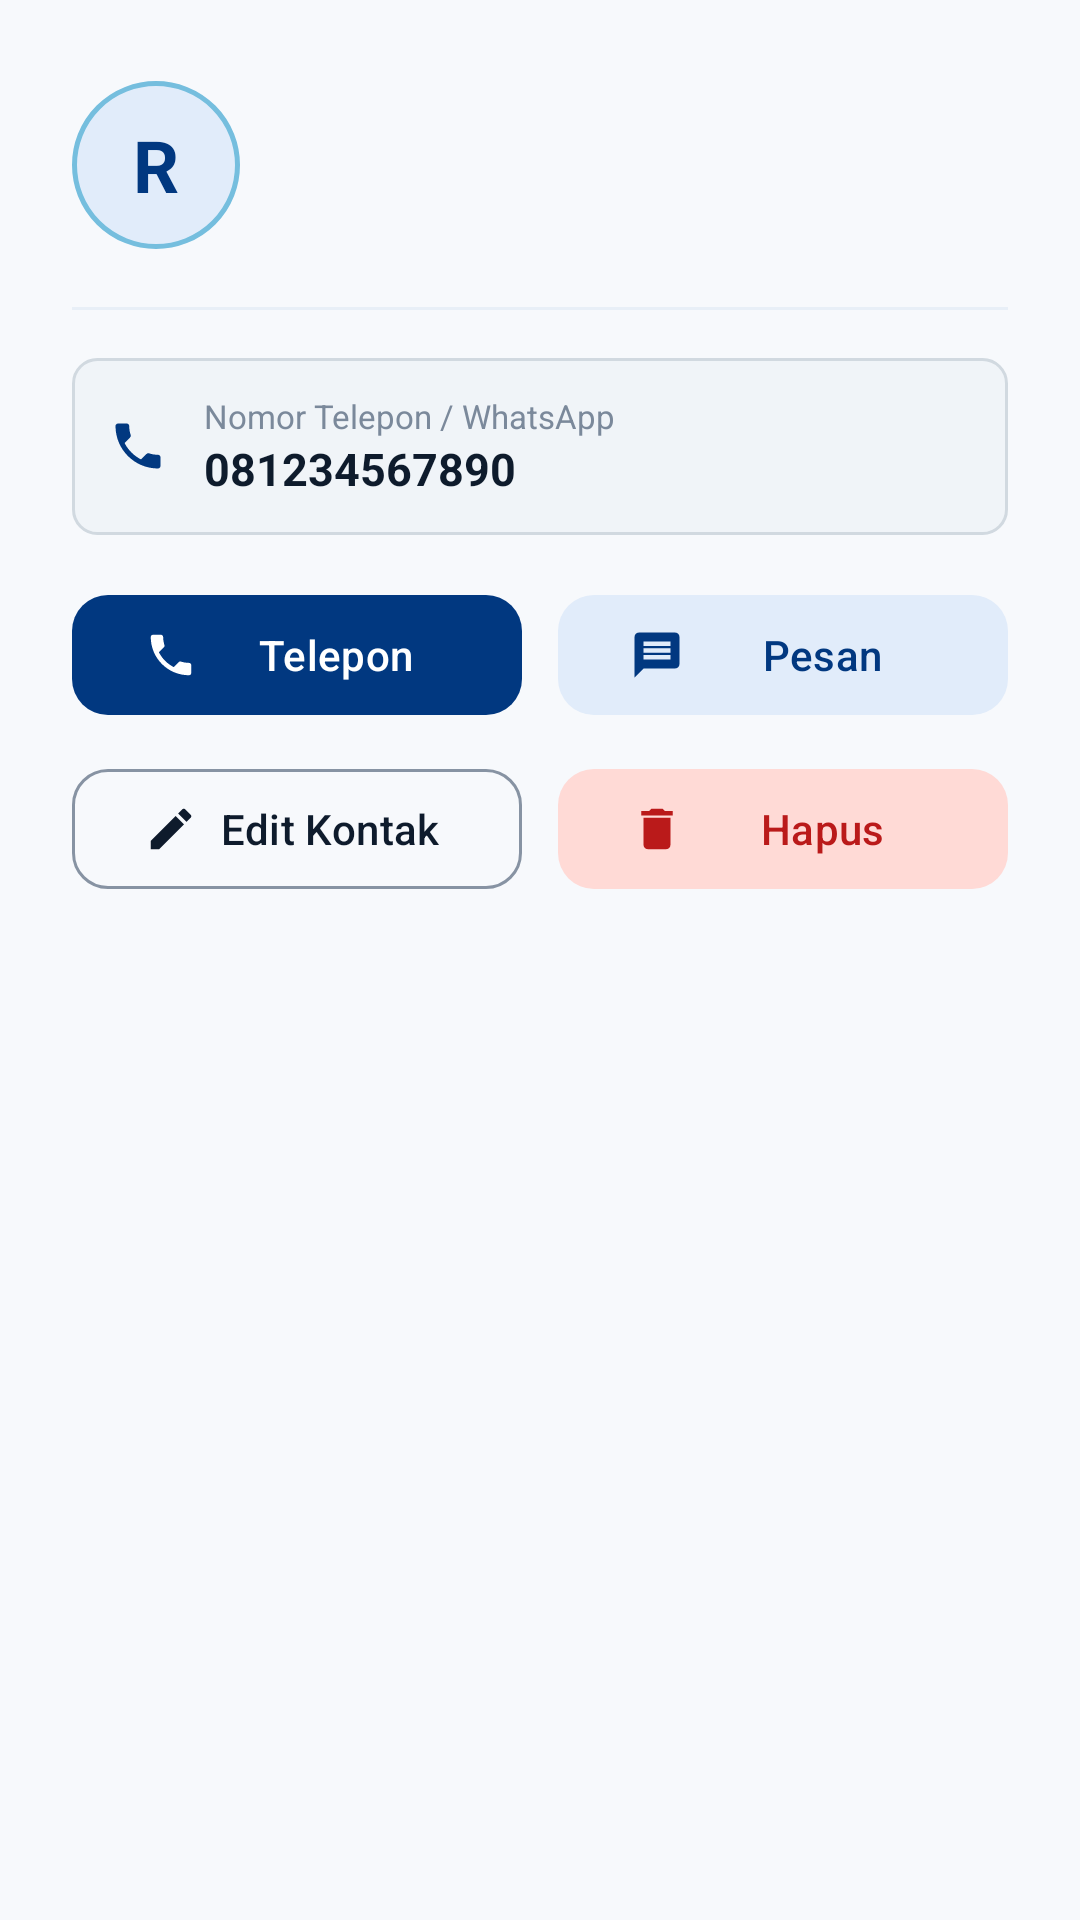

Where icons sit on this 1080w x 1920h app screen, as [x1, y1, x2, y2]:
phone: [115, 423, 161, 469]
